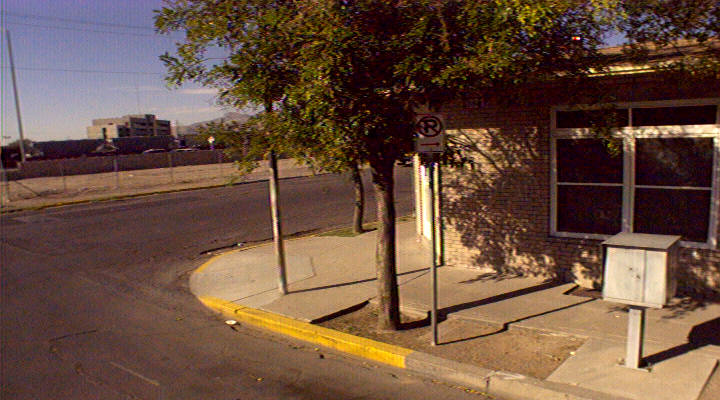Ramp: (167, 244, 327, 320)
